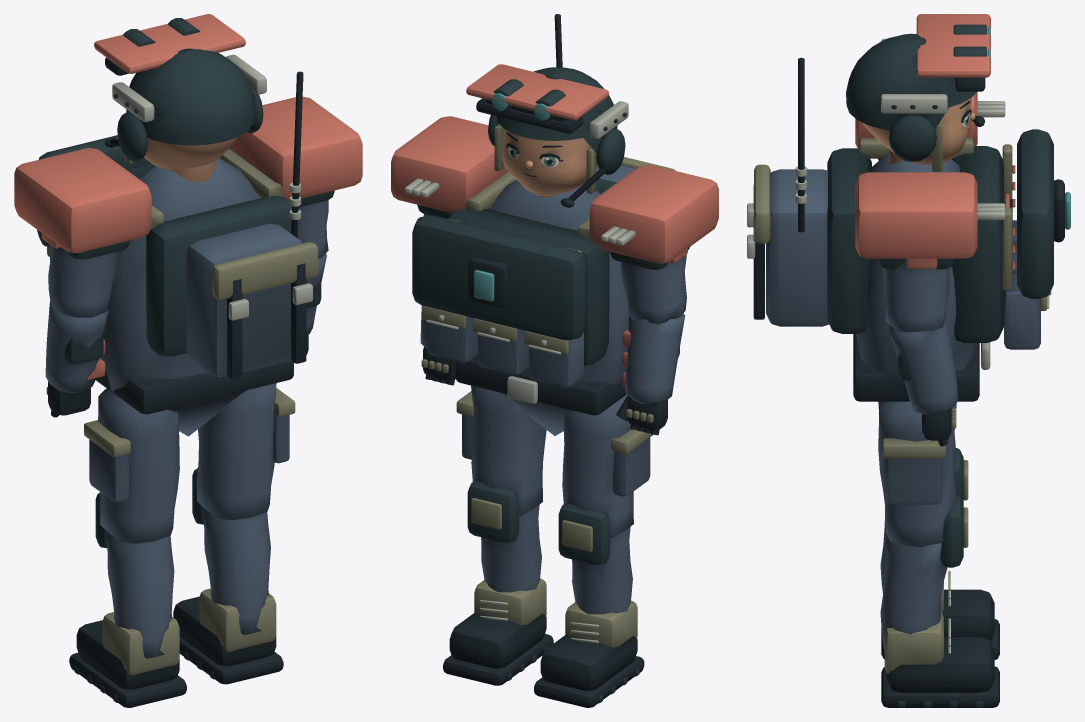
The model's file is kf-mara.glb.
The picture shows the model from 3 angles, left to right: view 1: azimuth 30°, elevation 25°; view 2: azimuth 150°, elevation 25°; view 3: azimuth 270°, elevation 25°; orthographic projection. The views are drawn at different scales.
Parts seen in each view (by area): view 1: Torso Woven uniform, ArmorPlates Unit insignia, Head Ceramic armor, Leg_R Woven uniform, Leg_L Woven uniform, Torso Ceramic armor, Torso Rubber and hair, Knee_R Woven uniform, Knee_L Woven uniform, Torso Webbing, Knee_R Rubber and hair, Knee_L Rubber and hair (+14 smaller); view 2: ArmorPlates Unit insignia, ArmorPlates Ceramic armor, Torso Woven uniform, Leg_R Woven uniform, Leg_L Woven uniform, Knee_R Rubber and hair, Knee_L Rubber and hair, Torso Ceramic armor, Head Ceramic armor, Elbow_R Woven uniform, Head Skin, Torso Rubber and hair (+19 smaller); view 3: Torso Woven uniform, Torso Ceramic armor, ArmorPlates Unit insignia, Head Ceramic armor, Leg_L Woven uniform, Knee_L Rubber and hair, ArmorPlates Ceramic armor, Knee_L Woven uniform, Torso Rubber and hair, Elbow_L Woven uniform, Head Unit insignia, Arm_L Woven uniform (+12 smaller).
Boxes of the visible parts, x1,y1,x2,y2 form: Torso Woven uniform: [100, 158, 301, 436]; ArmorPlates Unit insignia: [14, 96, 362, 252]; Head Ceramic armor: [117, 18, 263, 161]; Leg_R Woven uniform: [89, 388, 179, 543]; Leg_L Woven uniform: [197, 383, 289, 519]; Torso Ceramic armor: [126, 163, 291, 356]; Torso Rubber and hair: [95, 71, 306, 414]; Knee_R Woven uniform: [106, 531, 174, 658]; Knee_L Woven uniform: [203, 507, 270, 634]; Torso Webbing: [47, 149, 318, 299]; Knee_R Rubber and hair: [69, 620, 186, 707]; Knee_L Rubber and hair: [173, 596, 283, 684]; ArmorPlates Unit insignia: [391, 116, 718, 263]; ArmorPlates Ceramic armor: [412, 215, 586, 340]; Torso Woven uniform: [427, 165, 635, 435]; Leg_R Woven uniform: [562, 394, 650, 537]; Leg_L Woven uniform: [462, 385, 546, 515]; Knee_R Rubber and hair: [534, 635, 644, 707]; Knee_L Rubber and hair: [443, 613, 553, 685]; Torso Ceramic armor: [449, 178, 616, 365]; Head Ceramic armor: [488, 67, 625, 174]; Elbow_R Woven uniform: [625, 314, 685, 404]; Head Skin: [502, 128, 597, 196]; Torso Rubber and hair: [455, 14, 626, 415]; Torso Woven uniform: [766, 153, 1040, 395]; Torso Ceramic armor: [827, 146, 1003, 342]; ArmorPlates Unit insignia: [855, 92, 977, 258]; Head Ceramic armor: [846, 24, 986, 161]; Leg_L Woven uniform: [878, 401, 956, 546]; Knee_L Rubber and hair: [881, 637, 999, 707]; ArmorPlates Ceramic armor: [1017, 129, 1053, 298]; Knee_L Woven uniform: [880, 536, 947, 651]; Torso Rubber and hair: [753, 57, 1012, 401]; Elbow_L Woven uniform: [888, 318, 958, 414]; Head Unit insignia: [916, 14, 990, 77]; Arm_L Woven uniform: [882, 258, 949, 332].
Bounding box in the file's own units: 0.93 × 1.9 × 0.8715.
